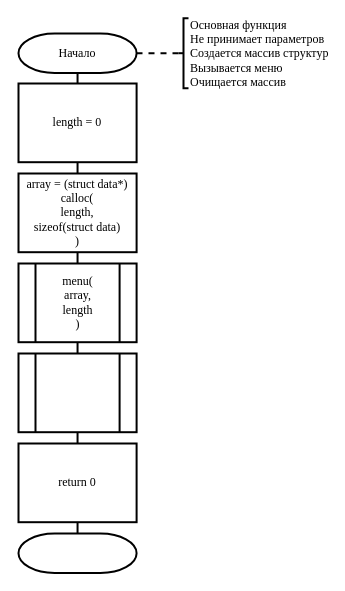
Image size: 345x591. Some labels were removed from this diagram. The box of each missing label's shape, as (x1, y1, x2, y2) in pixels:
free(array): (17, 352, 137, 433)
Конец: (17, 532, 137, 573)
